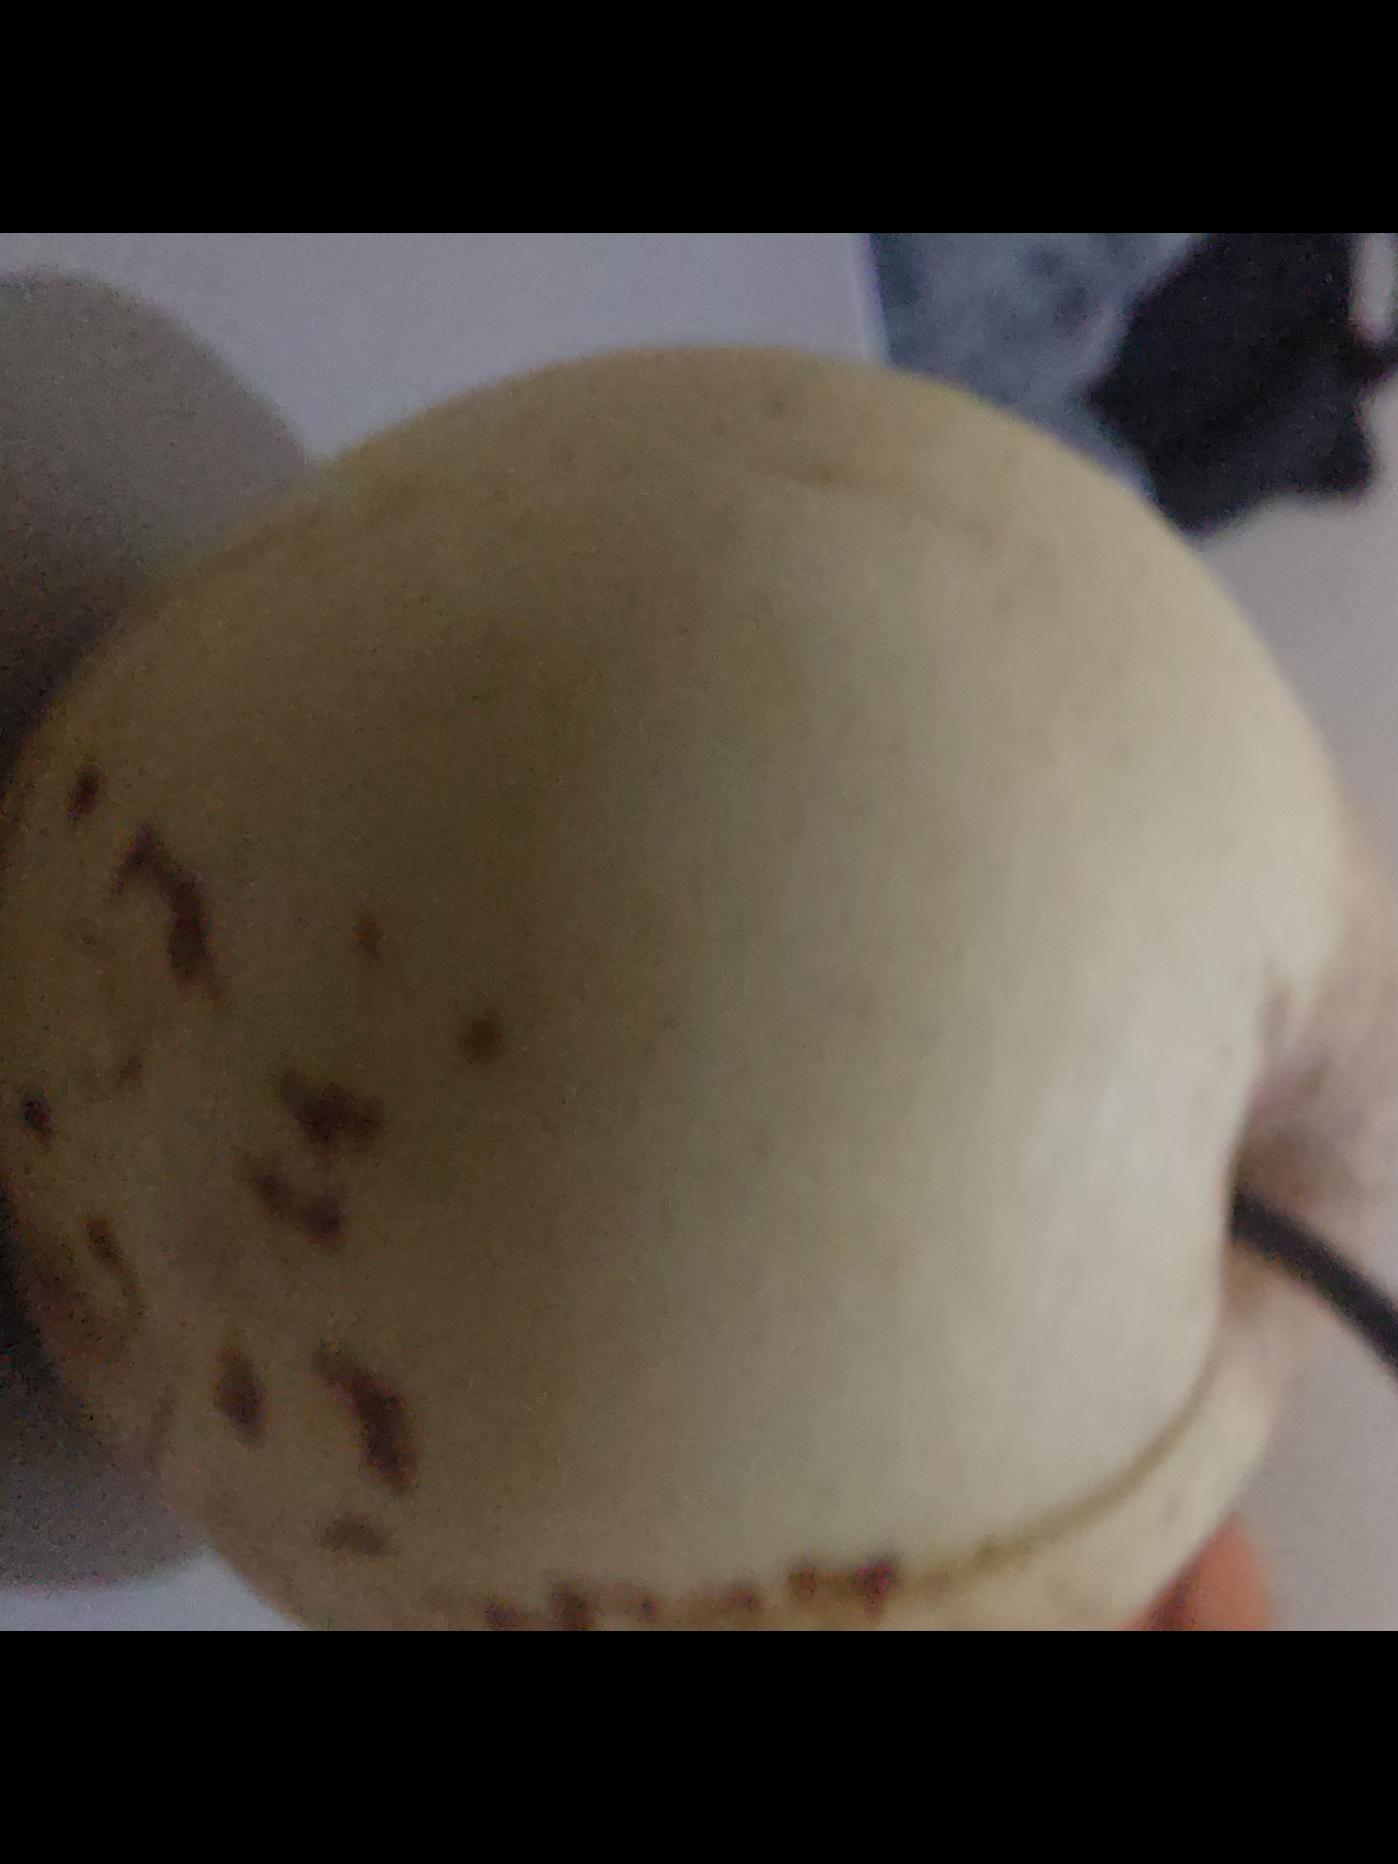Bad Pear: (0, 365, 1394, 1631)
